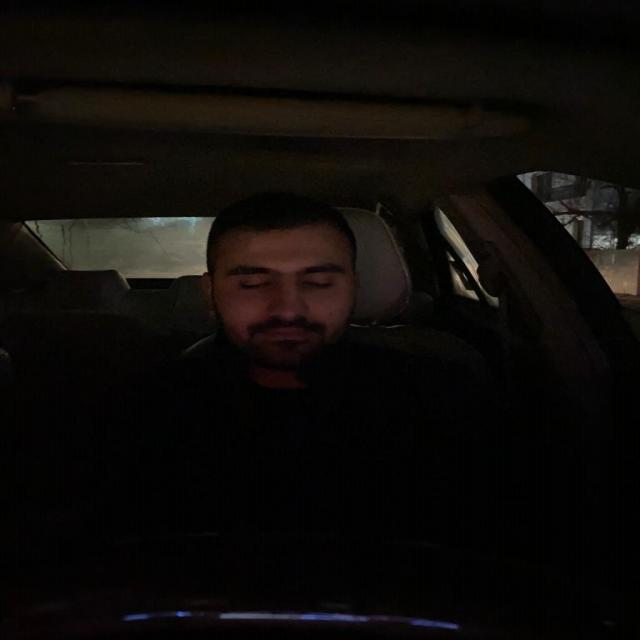drowsy: (198, 199, 368, 375)
